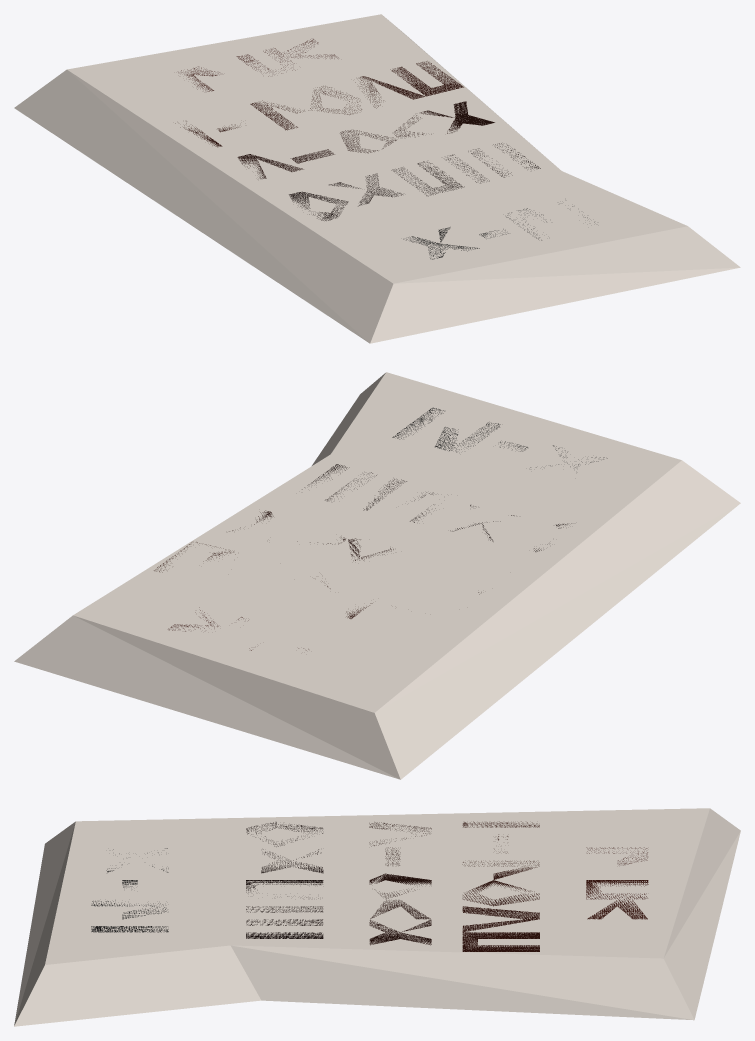
The model's file is inv_scrumpled_note.obj.
3 views of the same model, one above another, from view 1: azimuth 30°, elevation 25°; view 2: azimuth 150°, elevation 25°; view 3: azimuth 270°, elevation 25° (orthographic). The views are drawn at different scales.
Size of the model in its own units: 0.2344 by 0.0234 by 0.3672.
